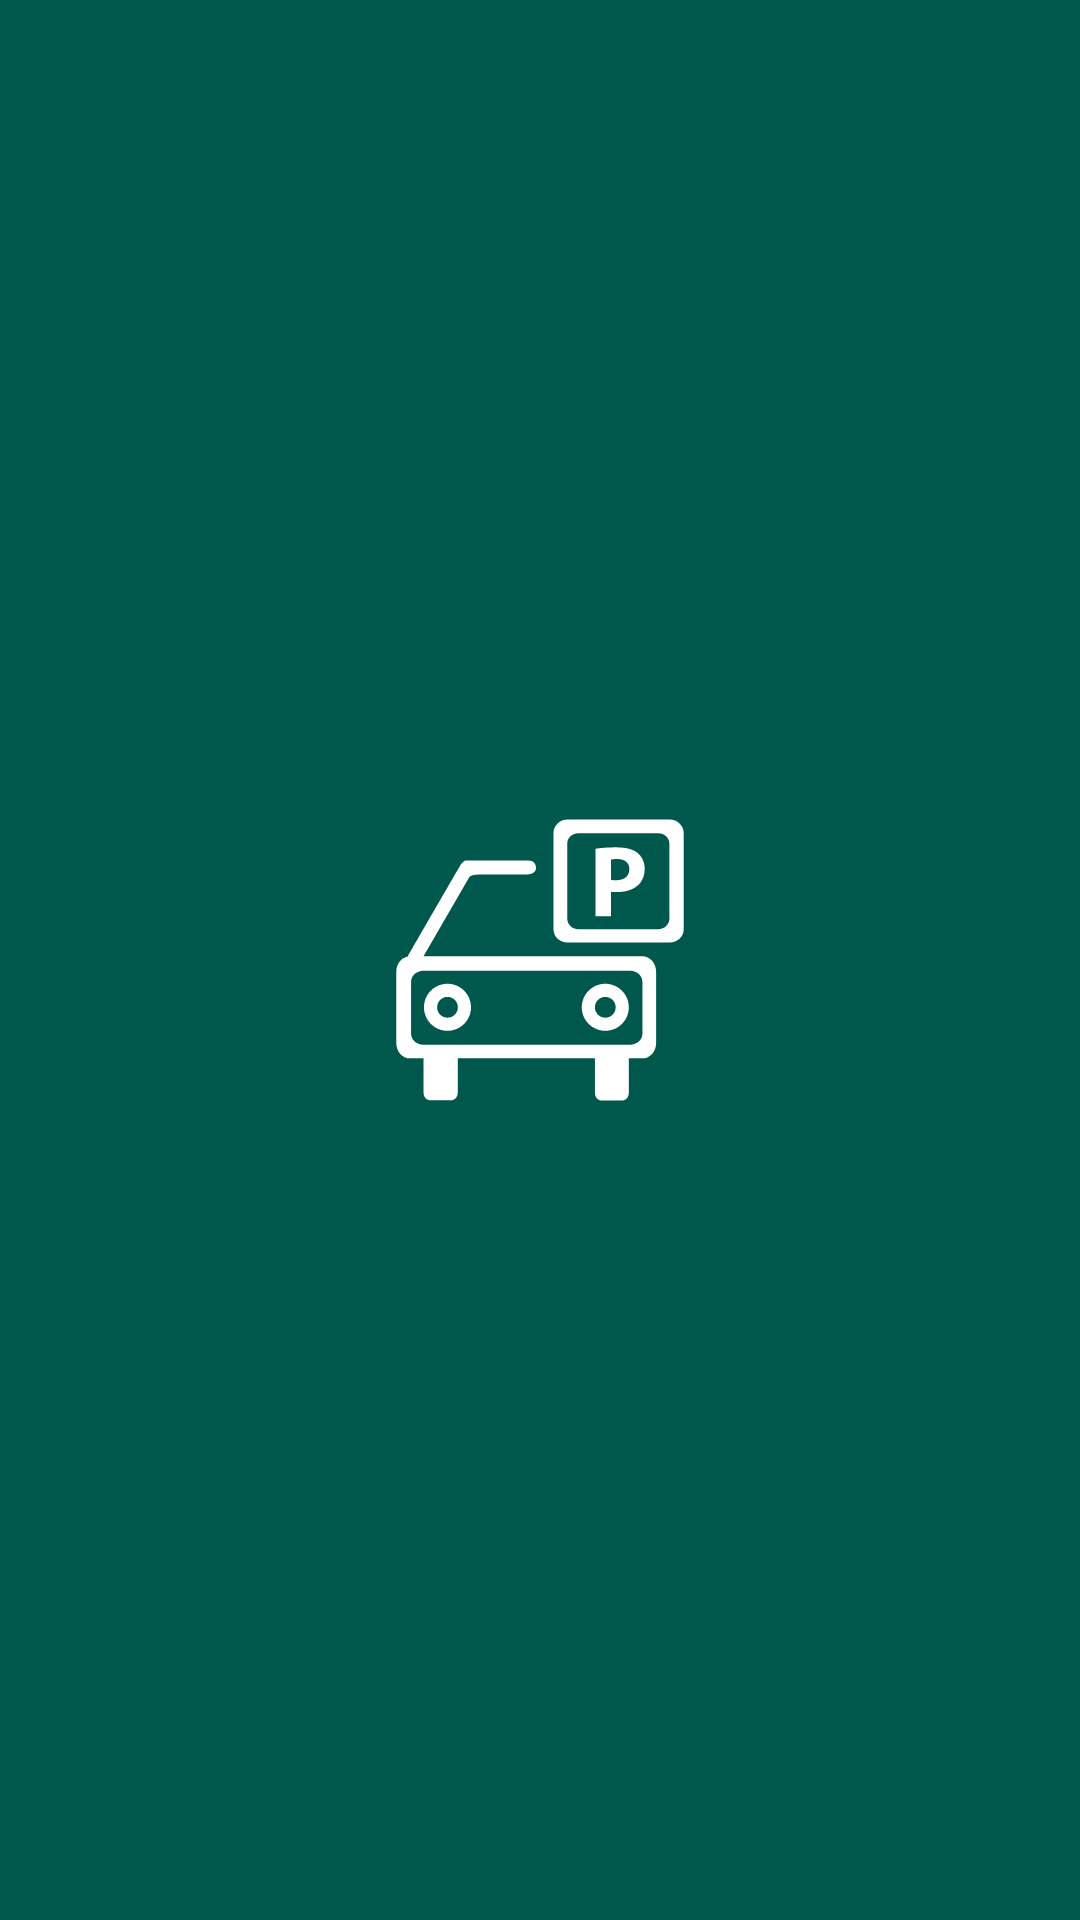

Where to tap for icons on this 1080 × 1920 app screen, as (x,y):
Parking: (540,960)
